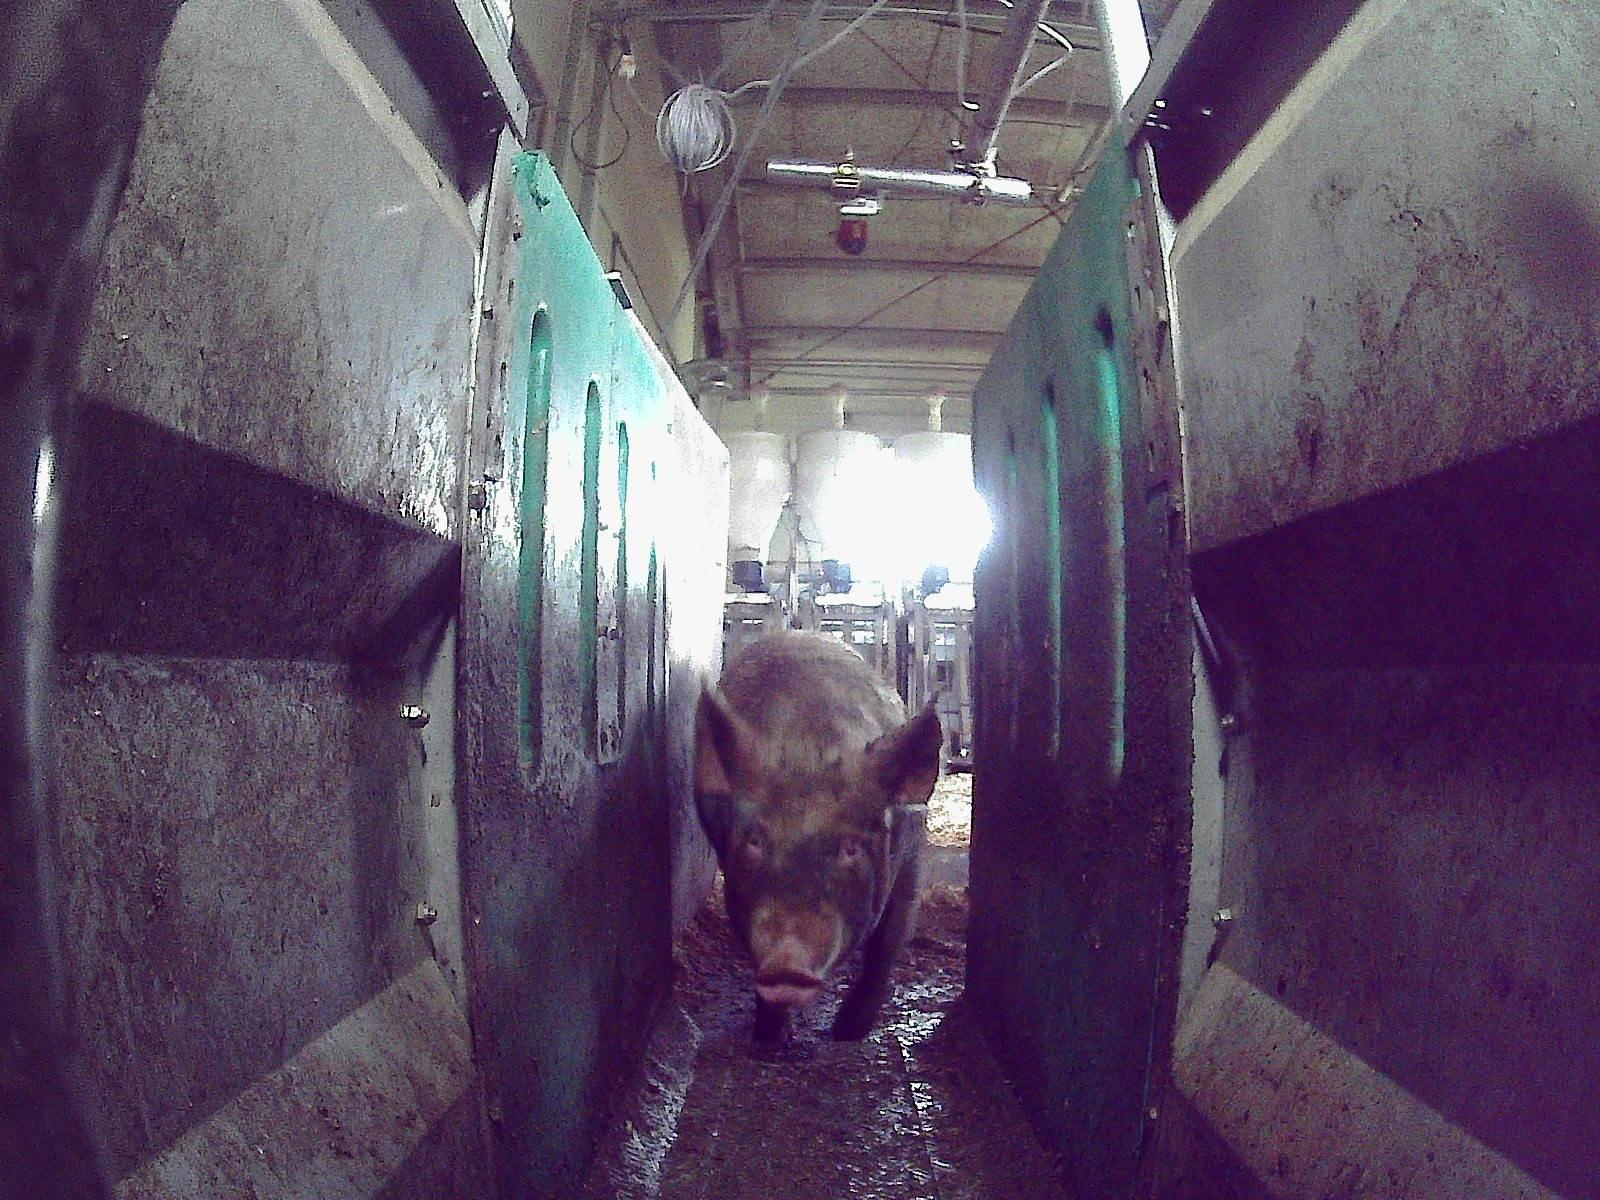Face: (725, 755, 879, 1002)
